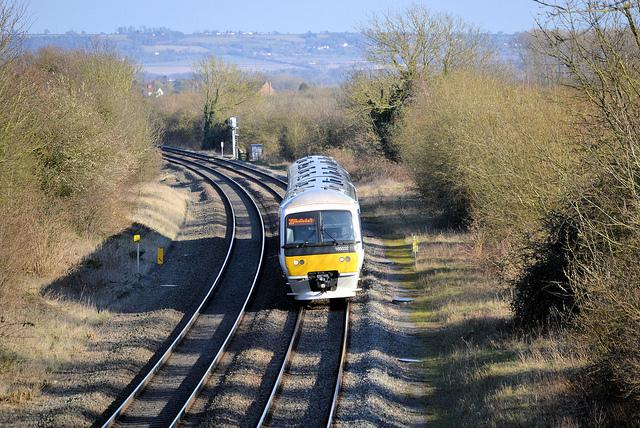Train: (281, 154, 370, 305)
